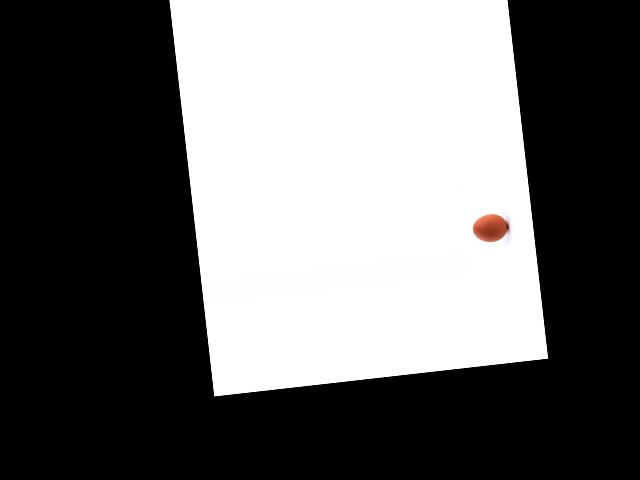egg: (471, 212, 509, 244)
